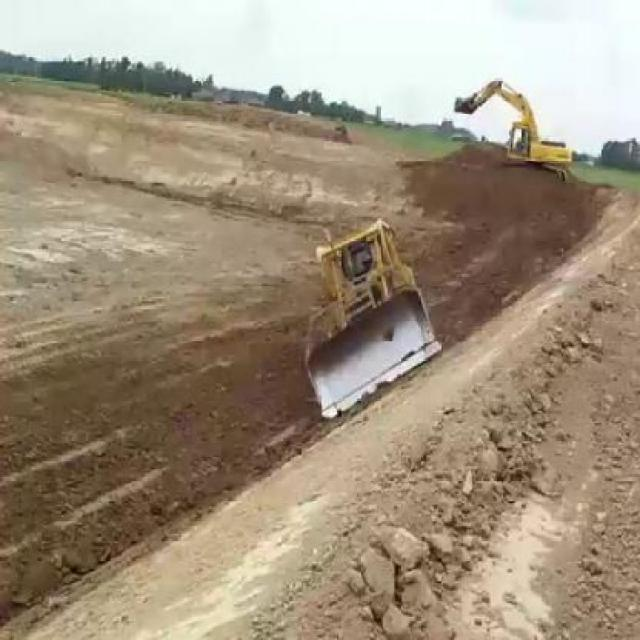Excavator: (452, 74, 572, 178)
